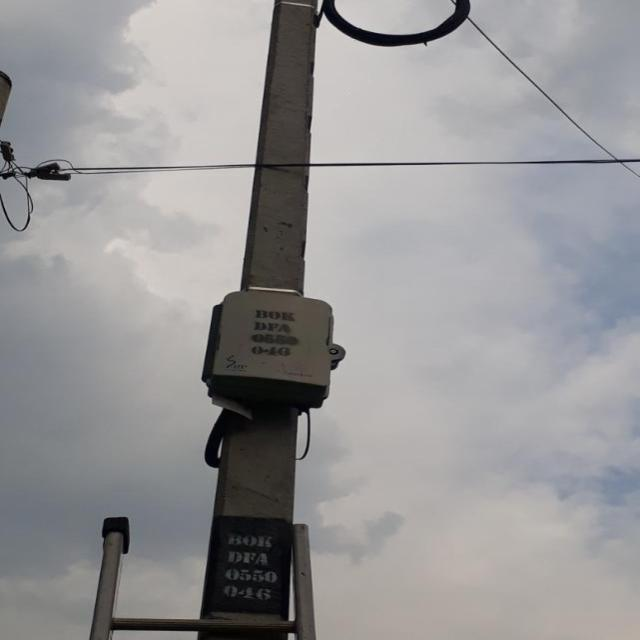light_pole: (194, 0, 343, 640)
